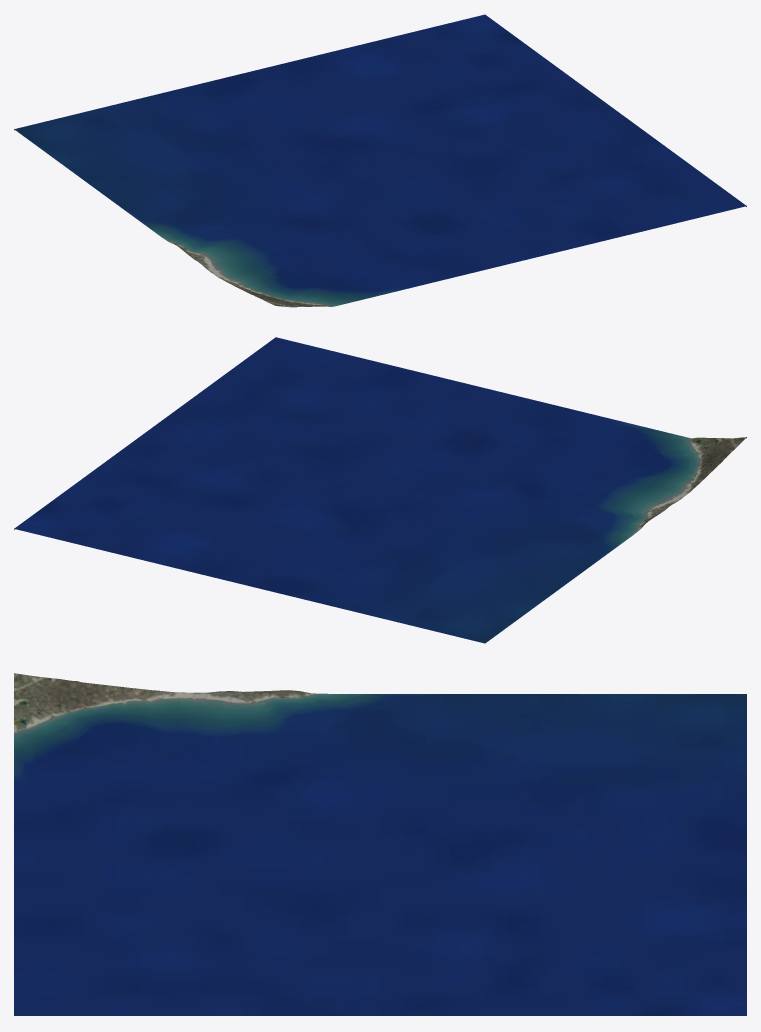
3 renders of one model, top to bottom at view 1: azimuth 30°, elevation 25°; view 2: azimuth 150°, elevation 25°; view 3: azimuth 270°, elevation 25°, orthographic. The views are drawn at different scales.
Bounding box in the file's own units: 1000 × 33 × 963.
Materials: 1 (1 with a texture image).
